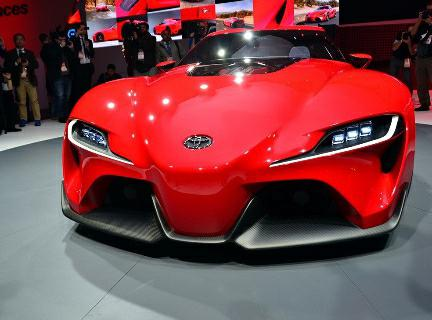丰田-FT-1: (52, 24, 417, 260)
